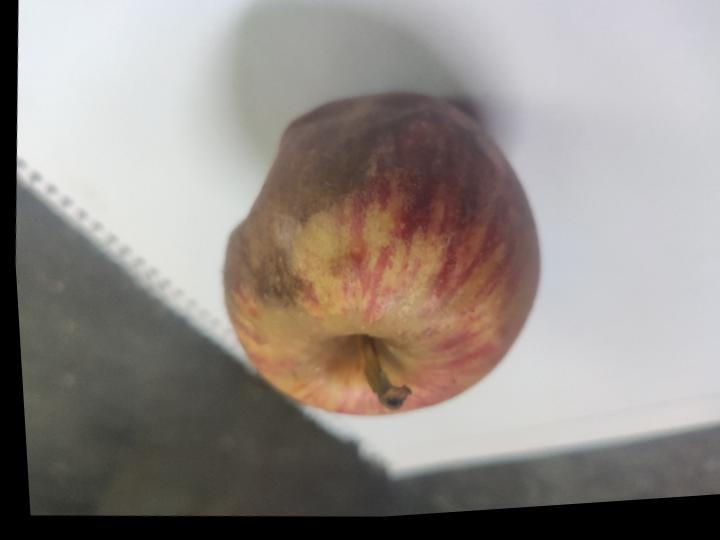apple: (224, 95, 539, 415)
rot_mold_decay: (224, 95, 534, 307)
